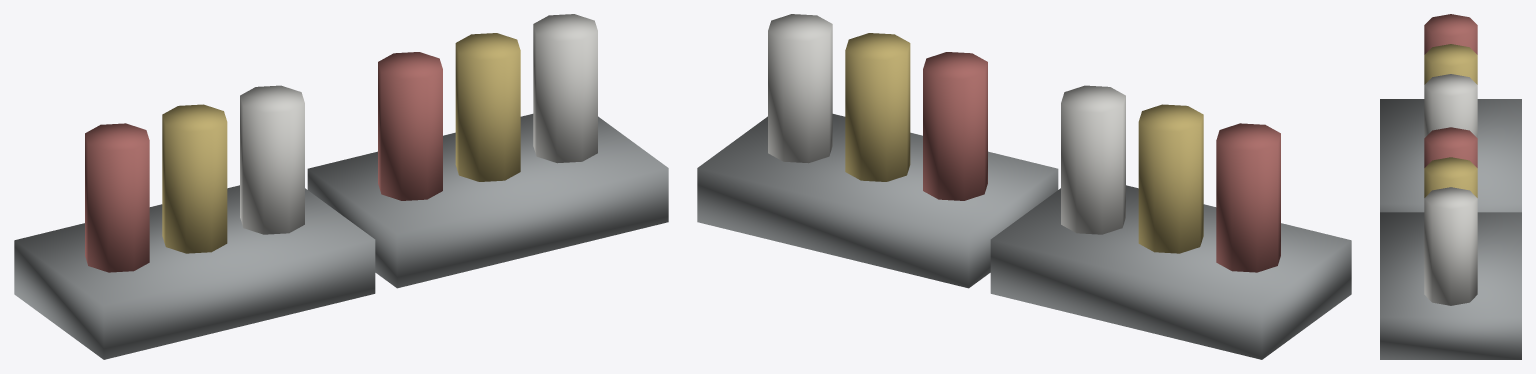
File: condiment_station__cluster.glb
3 renders of one model, left to right at view 1: azimuth 30°, elevation 25°; view 2: azimuth 150°, elevation 25°; view 3: azimuth 270°, elevation 25°, orthographic. The views are drawn at different scales.
Parts seen in each view (by area): view 1: world; view 2: world; view 3: world.
Part boxes in pixels (x1,y1,x2,y2): world: (14, 14, 668, 359); world: (697, 14, 1351, 359); world: (1380, 14, 1521, 359).
Size of the model in its own units: 0.8736 by 0.26 by 0.24.
